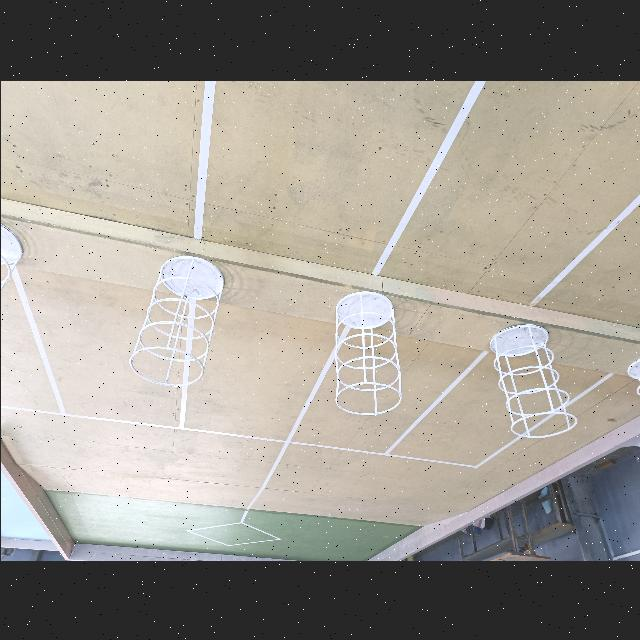S: (128, 254, 224, 385), (488, 324, 576, 437), (335, 290, 399, 414), (0, 220, 22, 285), (627, 356, 640, 399)
